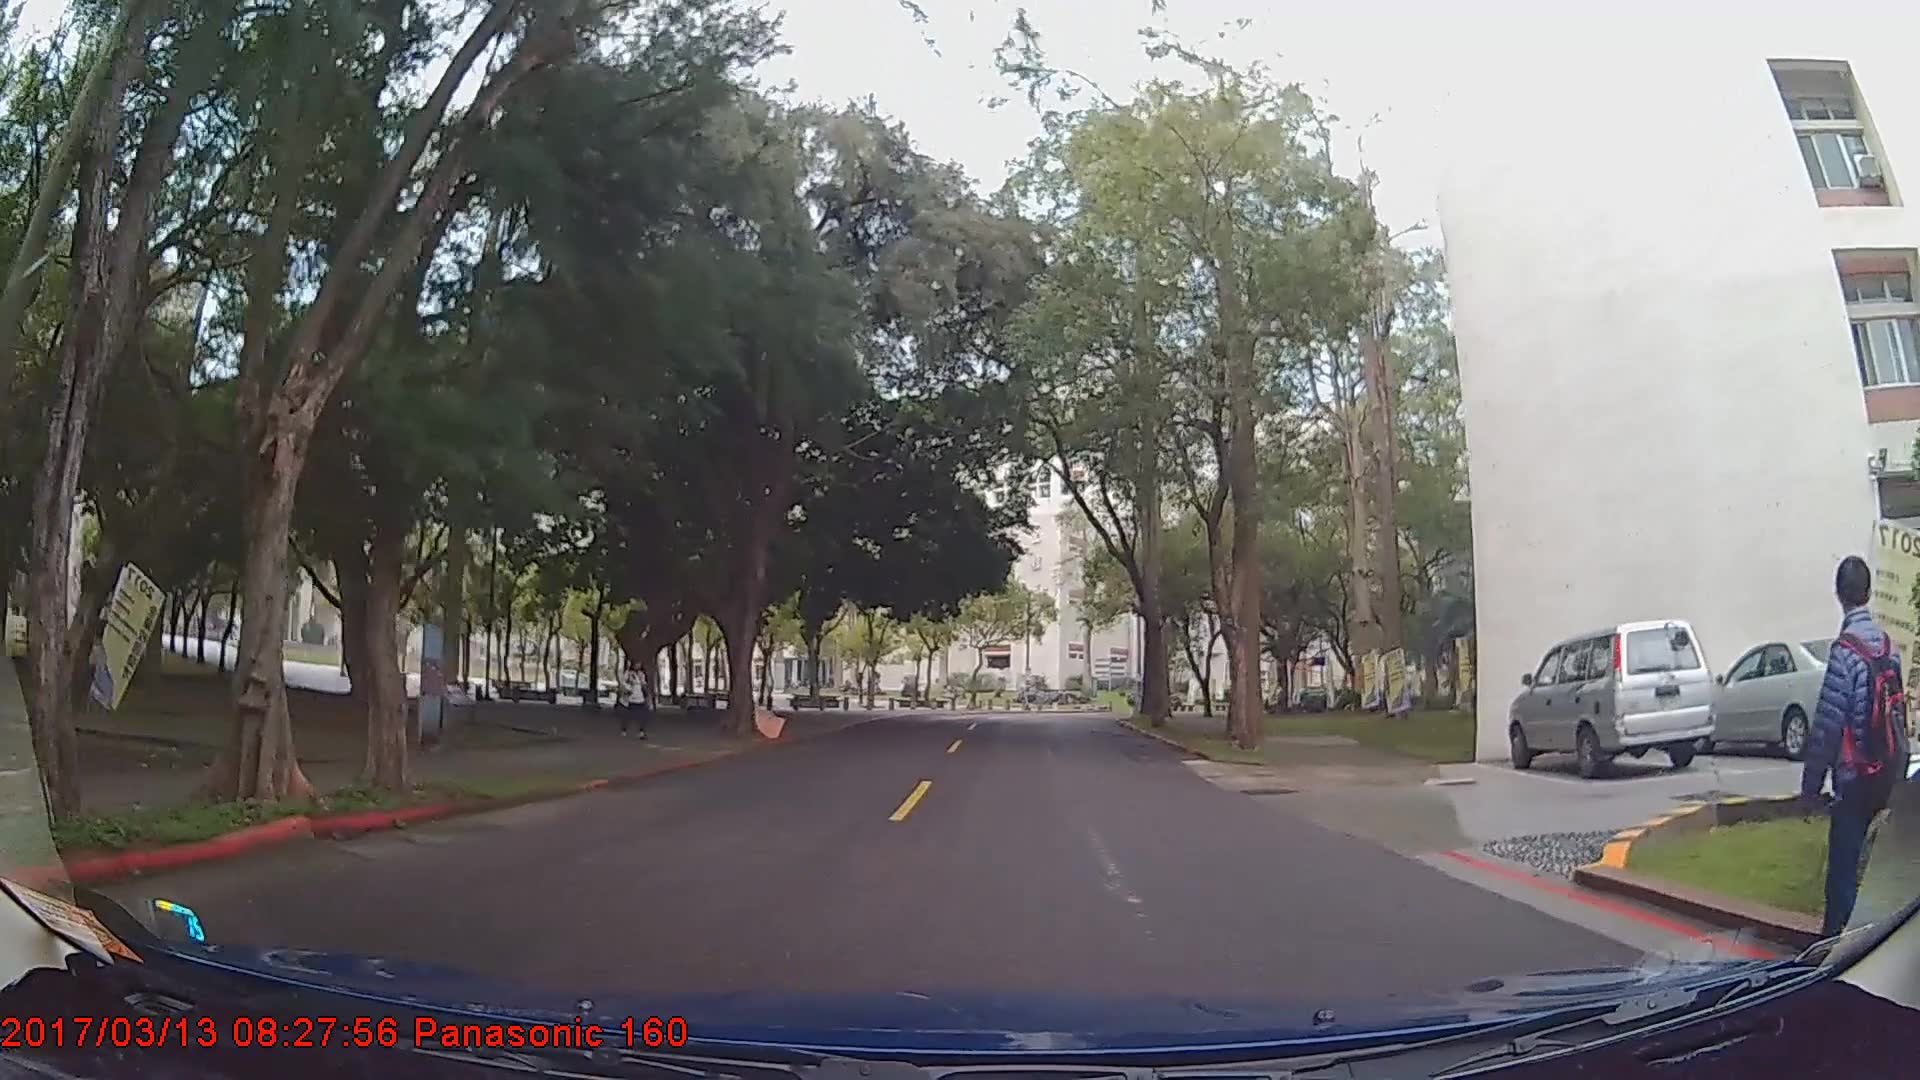pedestrian: (1800, 553, 1908, 992), (620, 653, 652, 738)
vehicle: (1509, 616, 1716, 777), (1698, 633, 1915, 758)
